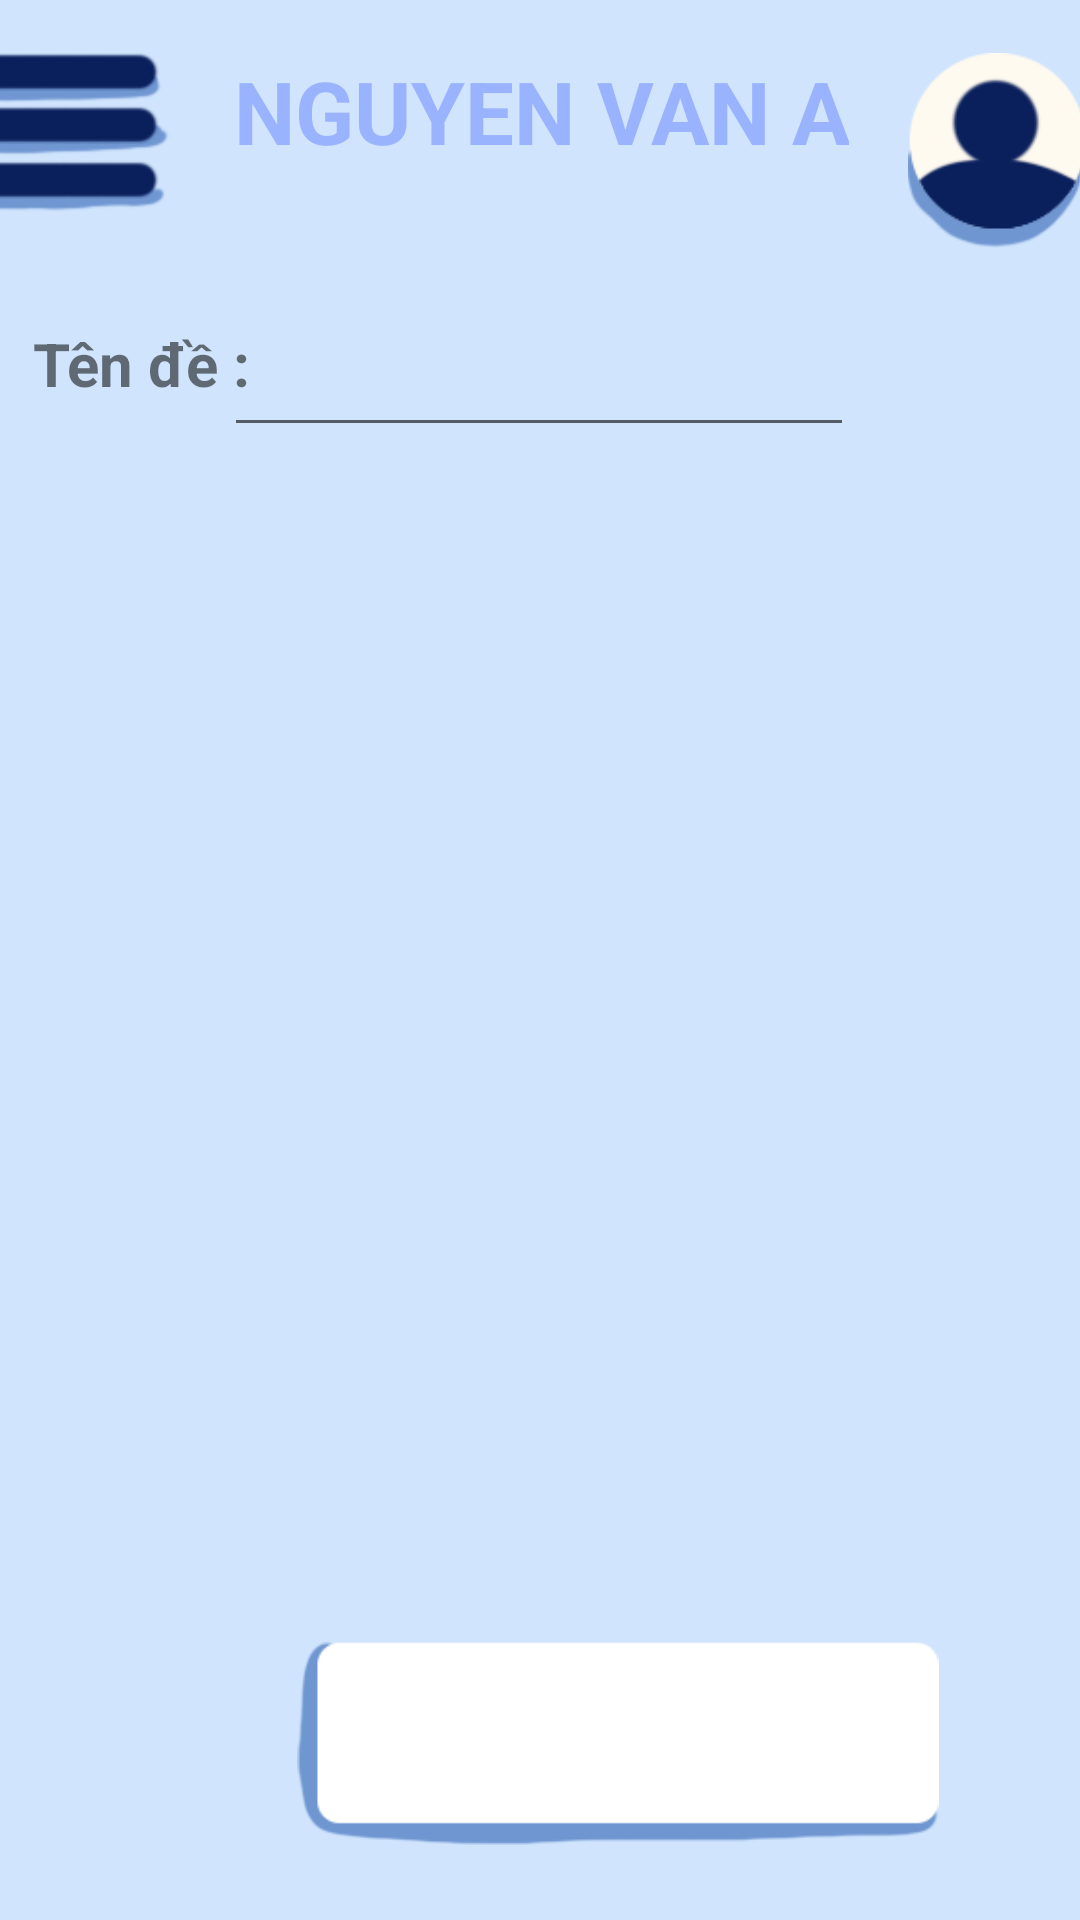

Where to tap for icons on this 1080px×1920px app screen, as point (x, y):
user: point (994, 150)
